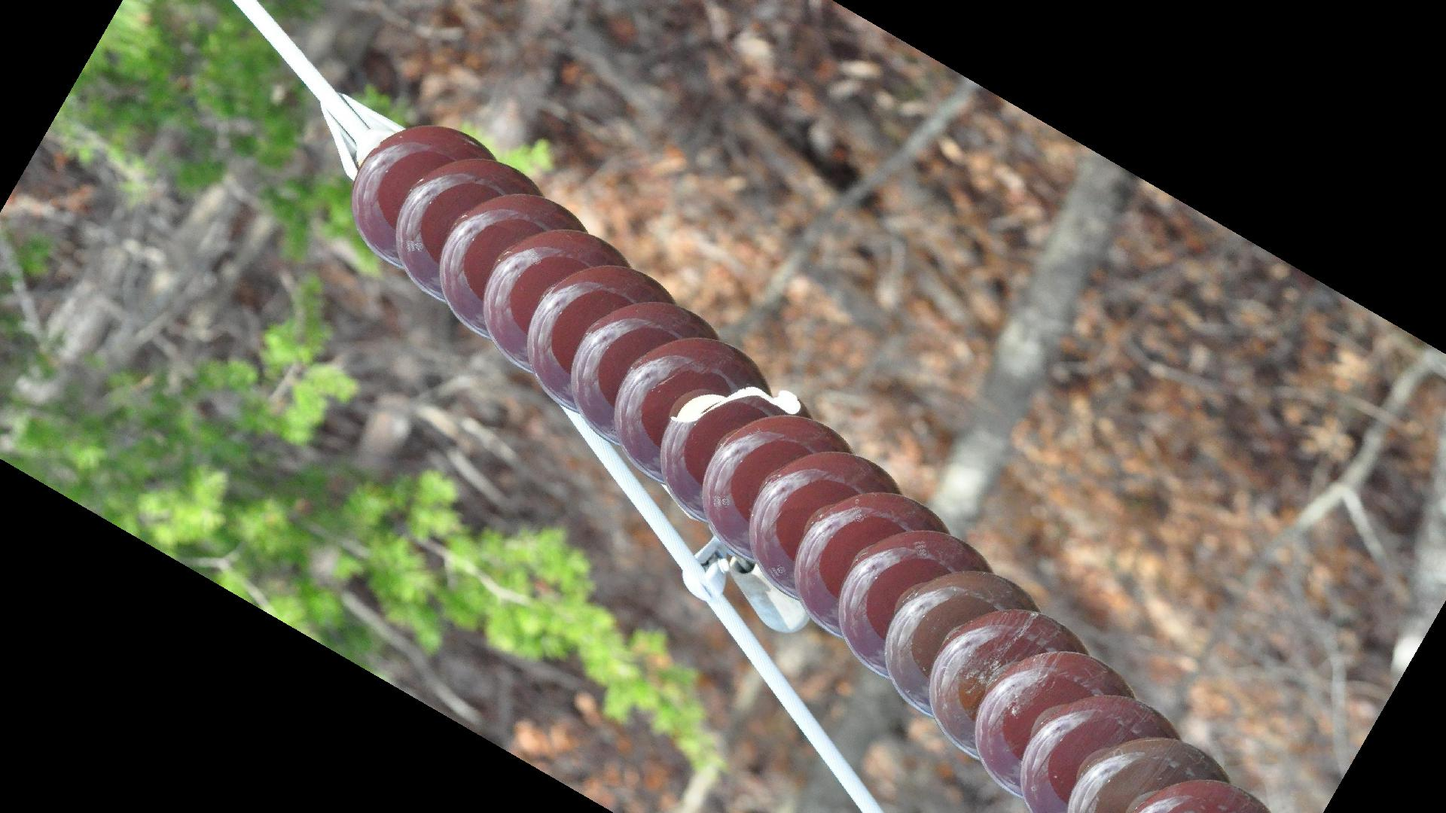insulator: (346, 120, 1285, 813)
insulator_breakage: (661, 381, 808, 436)
